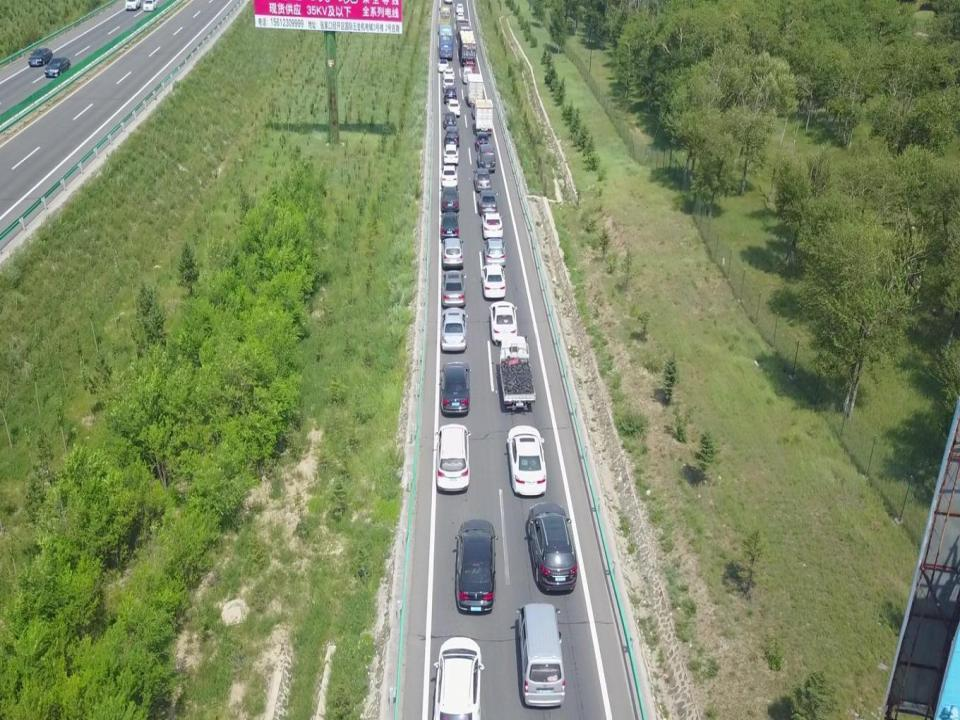bus: (437, 24, 454, 61), (438, 5, 451, 30)
car: (526, 501, 578, 595), (432, 635, 485, 719), (453, 518, 499, 614), (505, 423, 547, 497), (433, 423, 471, 493), (439, 359, 472, 417), (439, 305, 468, 353), (488, 300, 518, 346), (440, 268, 466, 308), (480, 264, 507, 300), (440, 236, 464, 270), (483, 238, 506, 268), (480, 210, 503, 240), (439, 211, 460, 241), (438, 185, 460, 213), (478, 188, 498, 216), (44, 56, 70, 77), (27, 47, 53, 67), (472, 167, 492, 192), (440, 164, 458, 187), (442, 143, 459, 166), (444, 124, 460, 148), (446, 99, 462, 117), (442, 110, 457, 129), (444, 84, 458, 104), (475, 132, 489, 150), (437, 57, 450, 72), (142, 0, 158, 11), (124, 0, 140, 11), (442, 77, 455, 90), (463, 60, 475, 74), (442, 67, 454, 78), (455, 2, 464, 14), (456, 12, 465, 21)
truck: (498, 333, 536, 411), (458, 24, 477, 66), (472, 98, 493, 135), (466, 72, 483, 106), (456, 18, 469, 38)
van: (514, 601, 566, 709), (476, 143, 496, 173), (462, 66, 473, 85)
